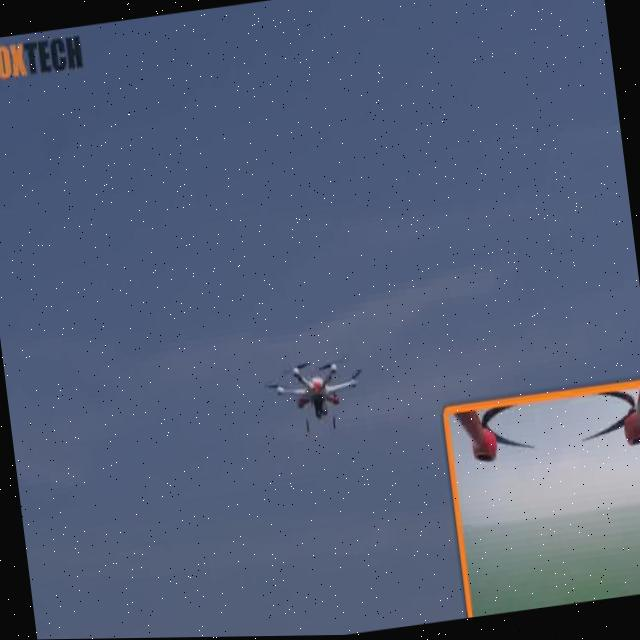drone: (253, 352, 379, 442)
